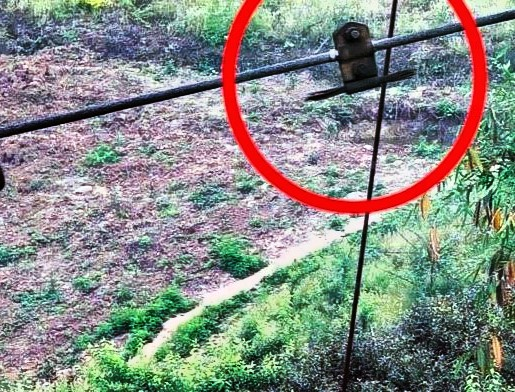Damage of shockproof hammer: (294, 15, 426, 110)
